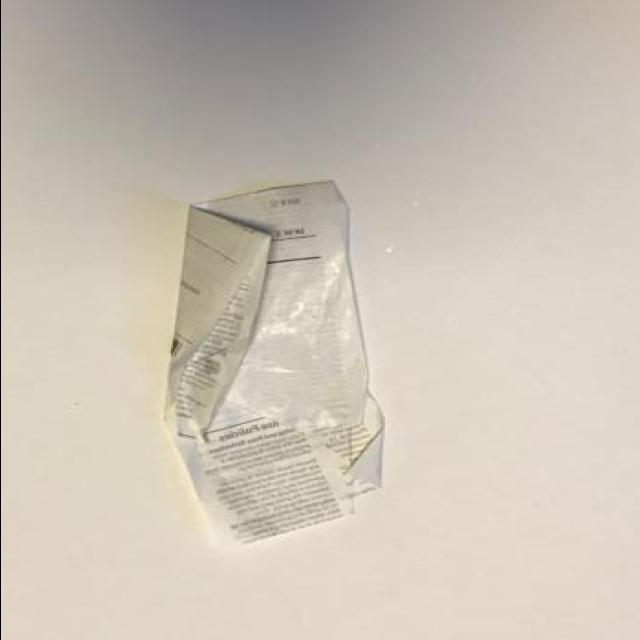kertas: (162, 177, 384, 550)
